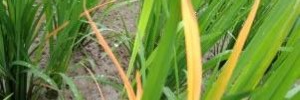RiceTungro: (216, 1, 244, 100), (183, 2, 207, 99), (132, 56, 143, 100)
